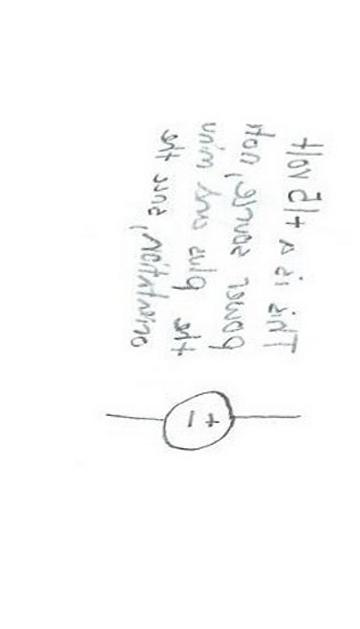Battery: (140, 369, 256, 478)
